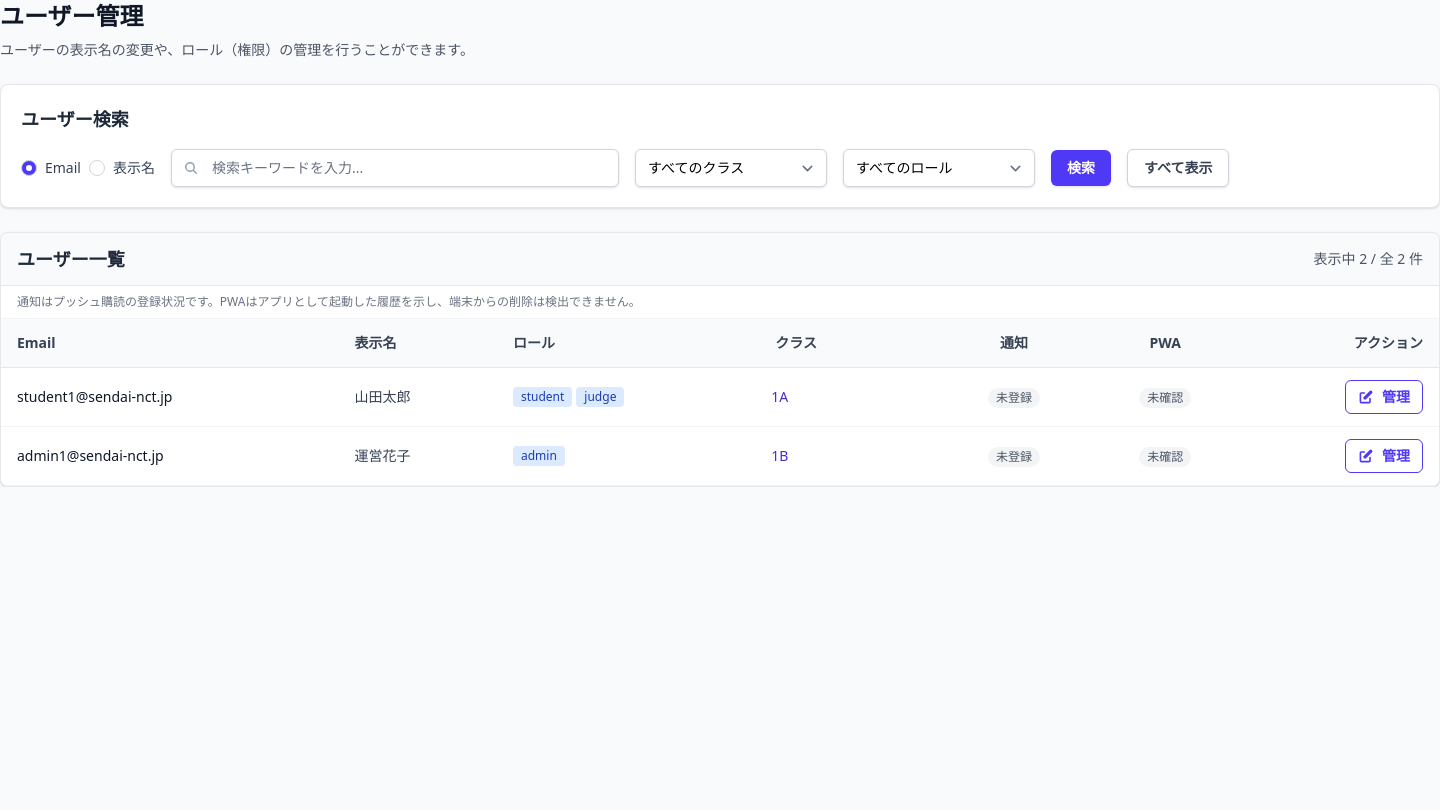
Test: Change Username Page › masterロールはその他のロール削除対象に出ない
Click the button "管理" in the row of "admin1@sendai-nct.jp" at (1384, 456), box [1345,439,1423,473]
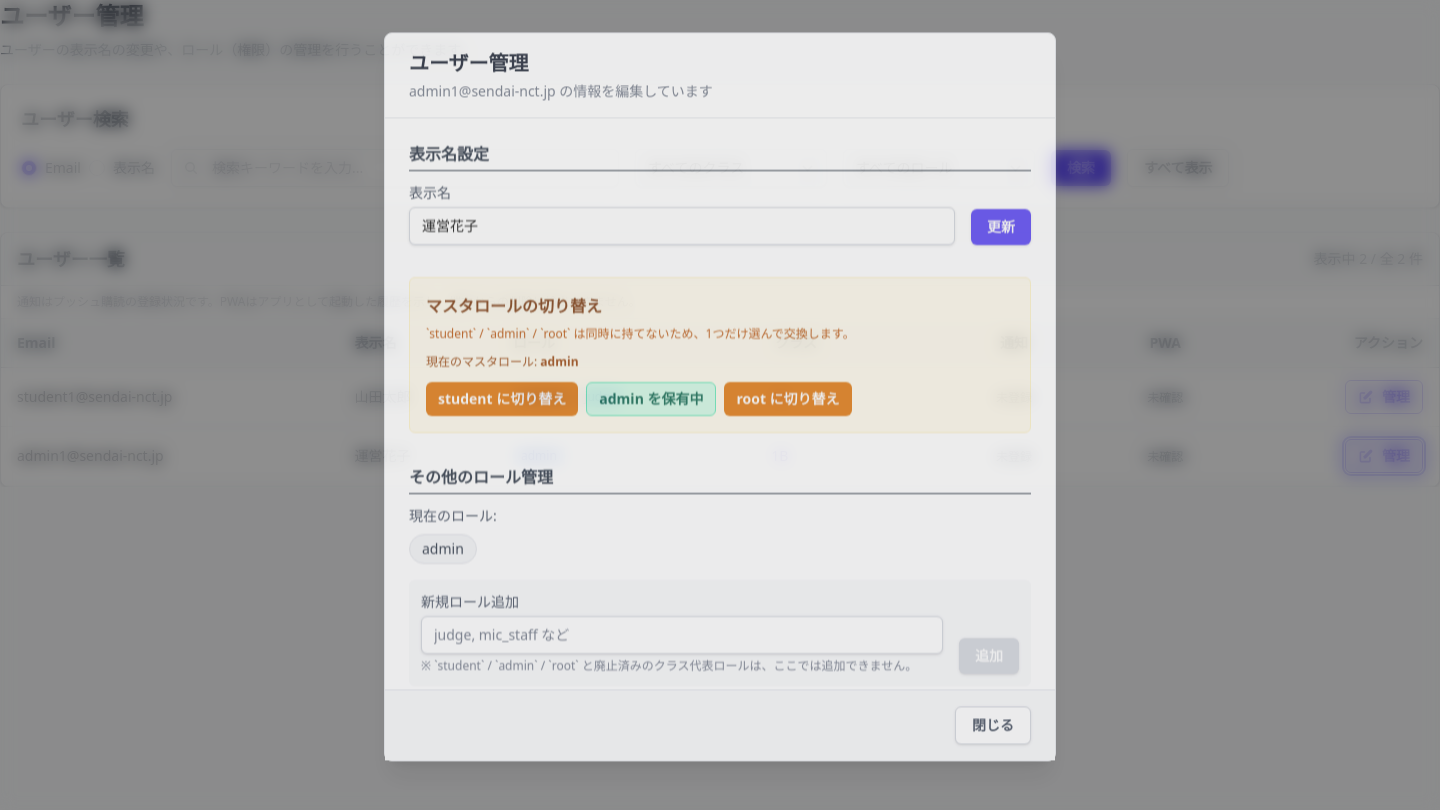
Expected: the button "admin を保有中" is shown, [586,389,716,423]
